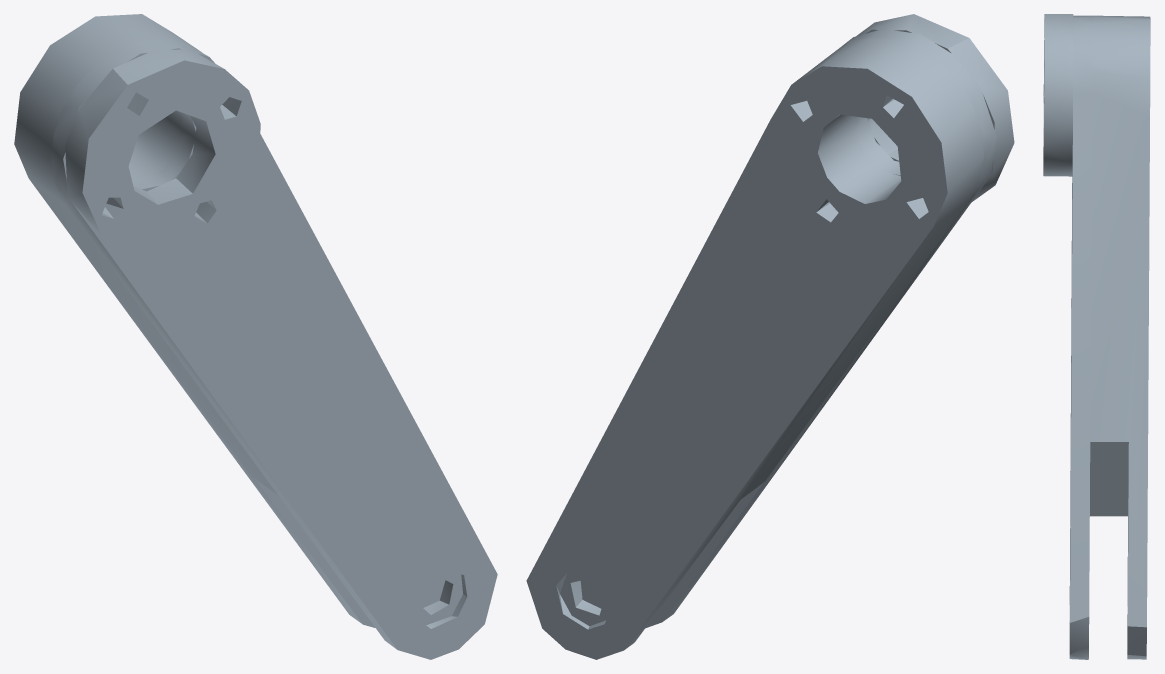
3 renders of one model, left to right at view 1: azimuth 30°, elevation 25°; view 2: azimuth 150°, elevation 25°; view 3: azimuth 270°, elevation 25°, orthographic. The views are drawn at different scales.
Parts seen in each view (by area): view 1: tmp_export_bl_link4; view 2: tmp_export_bl_link4; view 3: tmp_export_bl_link4.
Boxes of the visible parts, x1,y1,x2,y2 form: tmp_export_bl_link4: [14, 14, 497, 659]; tmp_export_bl_link4: [526, 14, 1014, 659]; tmp_export_bl_link4: [1043, 14, 1150, 659].
Size of the model in its own units: 0.0605 by 0.0167 by 0.0902.
